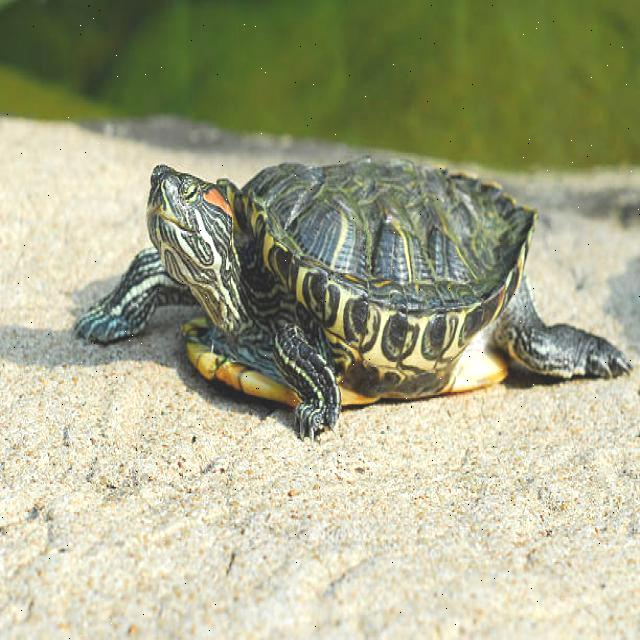tortoise: (86, 162, 628, 442)
